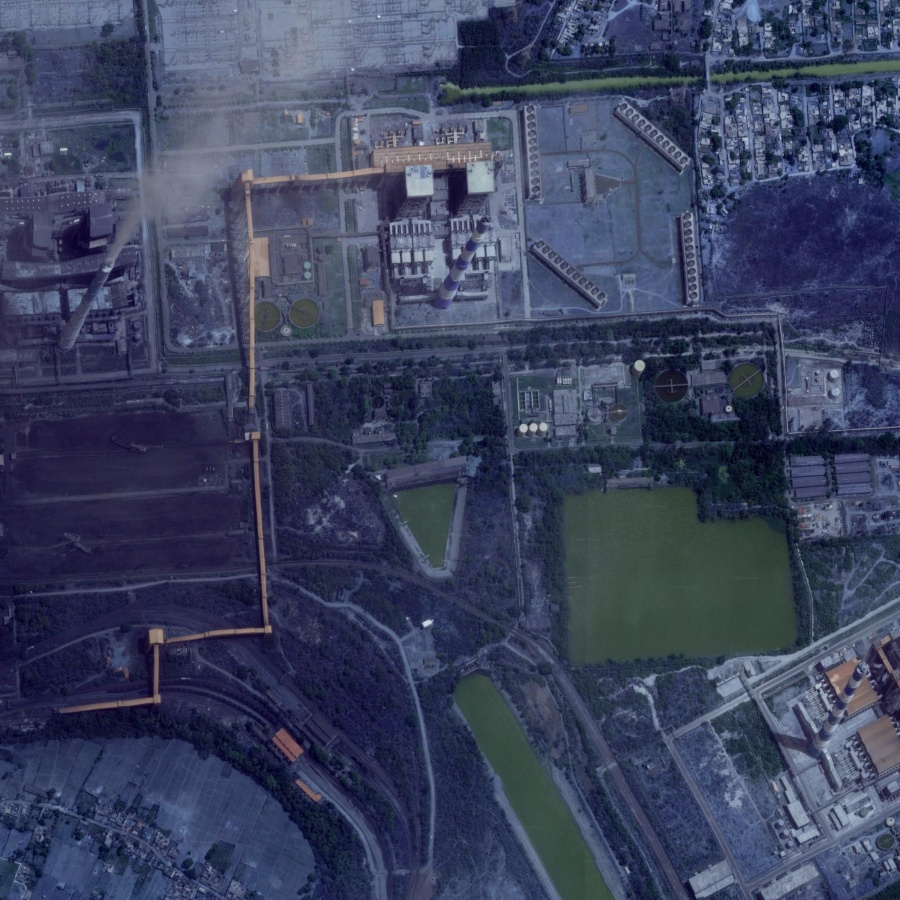PowerPlant: (382, 143, 506, 323)
